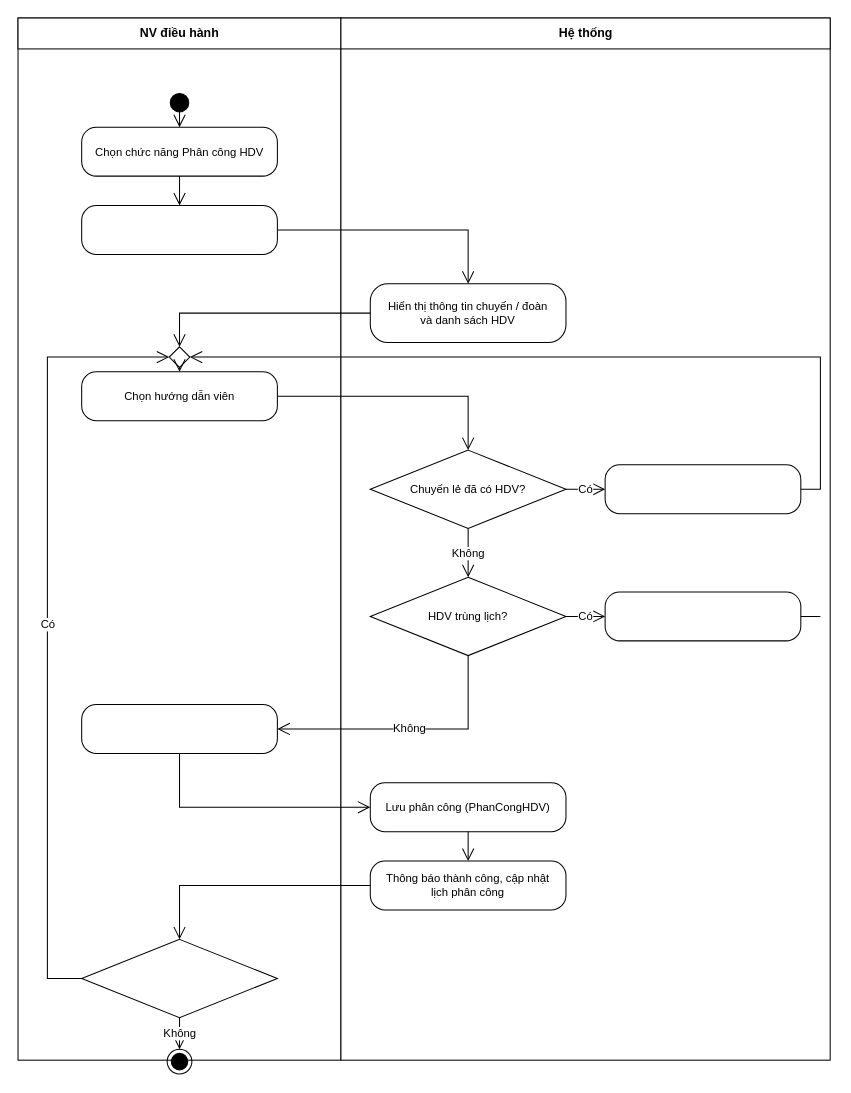
This 851x1093 diagram has some shape labels left out. Here are the shapes that lost their labels. From the top down, the centre of each, then its label:
At (179,229): "Chọn chuyến lẻ hoặc đoàn cần phân công".
At (702,489): "Thông báo: chuyến lẻ chỉ có một HDV".
At (702,616): "Thông báo trùng lịch, chọn HDV khác".
At (179,728): "Nhập thù lao tour".
At (179,978): "Đoàn cần thêm HDV?".
